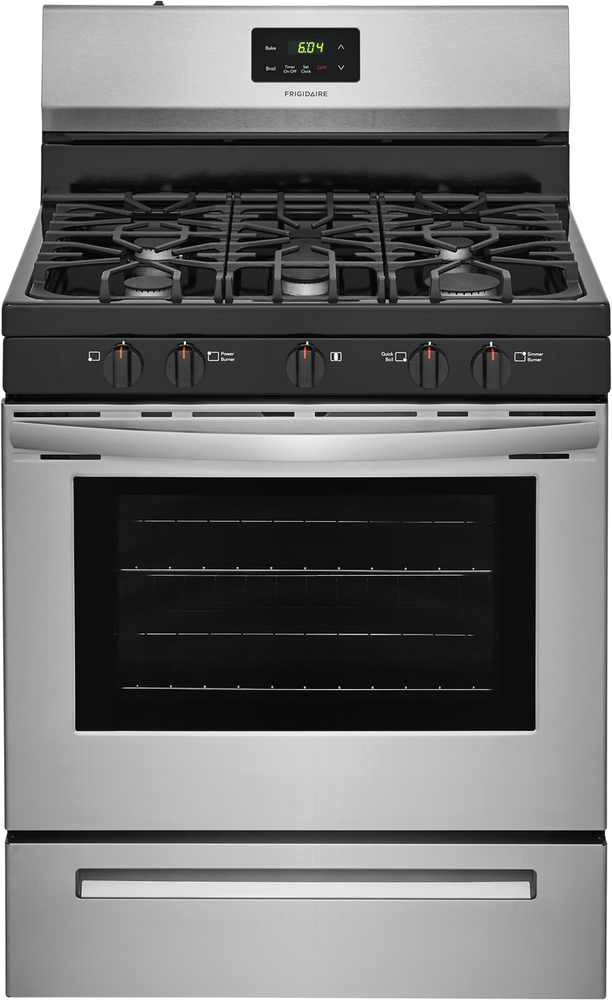stove: (15, 2, 612, 992)
